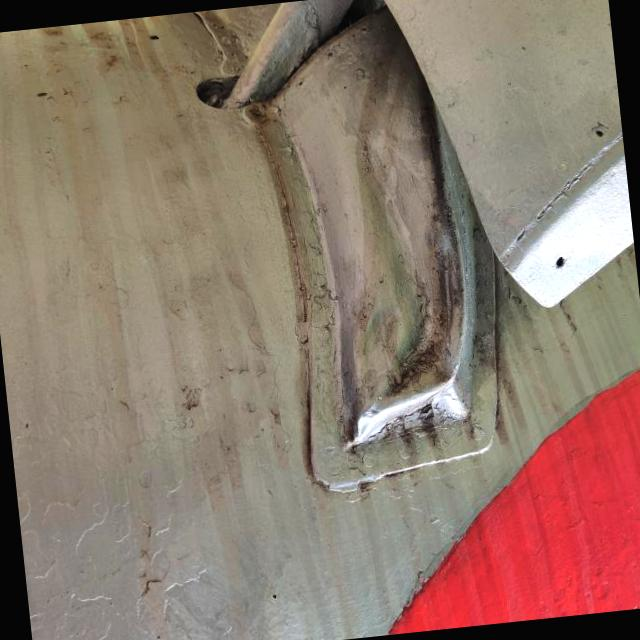dent: (282, 41, 506, 460)
